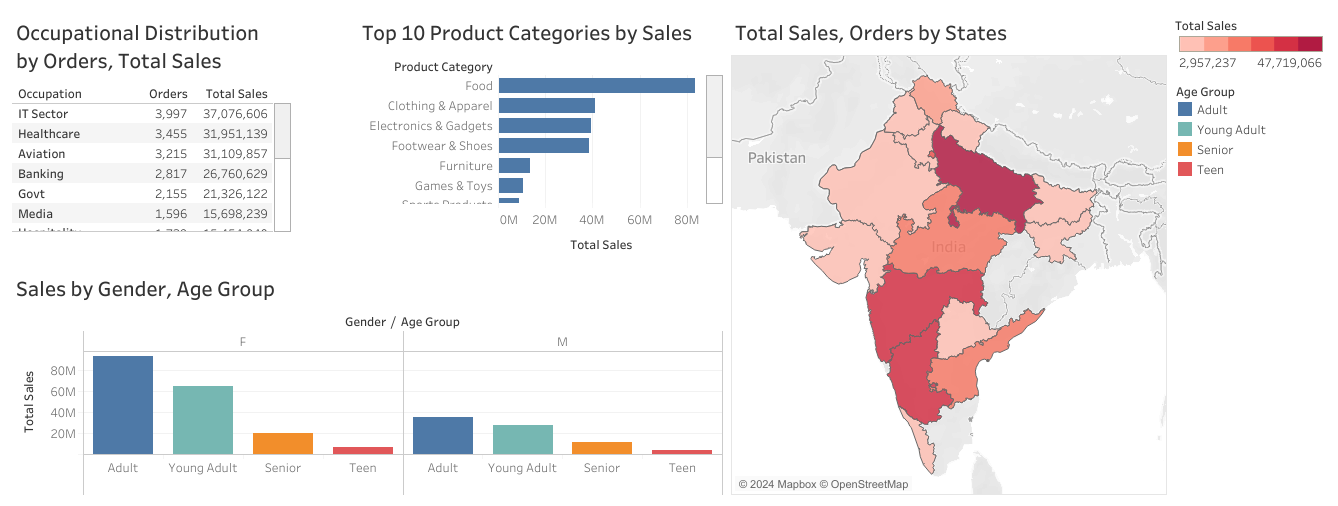

The dashboard page shown, as its layout file describes it:
{"tool":"tableau","page":{"name":"Dashboard 1","canvas":[1000,1000],"units":"permille","ordinal":0},"visuals":[{"type":"worksheet","title":"Text Table","mark":"Automatic","rows":["Occupation"],"box":[6.9,14.5,252.1,505.4]},{"type":"worksheet","title":"Bar Chart","mark":"Bar","rows":["Product_Category"],"cols":["Total Sales"],"box":[259,14.5,272,505.4]},{"type":"worksheet","title":"Map Chart","mark":"Automatic","box":[531,14.5,323.9,971]},{"type":"legend","title":"Map Chart","param":"[federated.10lu1ag0106im719s5pam1s0mdkj].[sum:Total Sales:qk]","box":[854.9,14.5,138.2,117.8]},{"type":"legend","title":"Side by Side Chart","param":"[federated.10lu1ag0106im719s5pam1s0mdkj].[none:Age_Group:nk]","box":[854.9,132.2,138.2,192]},{"type":"worksheet","title":"Side by Side Chart","mark":"Automatic","rows":["Total Sales"],"cols":["Gender","Age_Group"],"box":[6.9,519.9,524.1,465.6]}]}

Visuals, with their boxes on the dashboard's canvas, which has no fixed pixel size, in thousandths of its width and height (x1, y1, x2, y2). These are canvas units, not pixel positions in the 1338x506 screenshot, which may show the page scaled, cropped or inside an application window:
"Text Table" worksheet: detection(7, 14, 259, 520)
"Bar Chart" worksheet (Bar marks): detection(259, 14, 531, 520)
"Map Chart" worksheet: detection(531, 14, 855, 986)
"Map Chart" legend: detection(855, 14, 993, 132)
"Side by Side Chart" legend: detection(855, 132, 993, 324)
"Side by Side Chart" worksheet: detection(7, 520, 531, 986)
